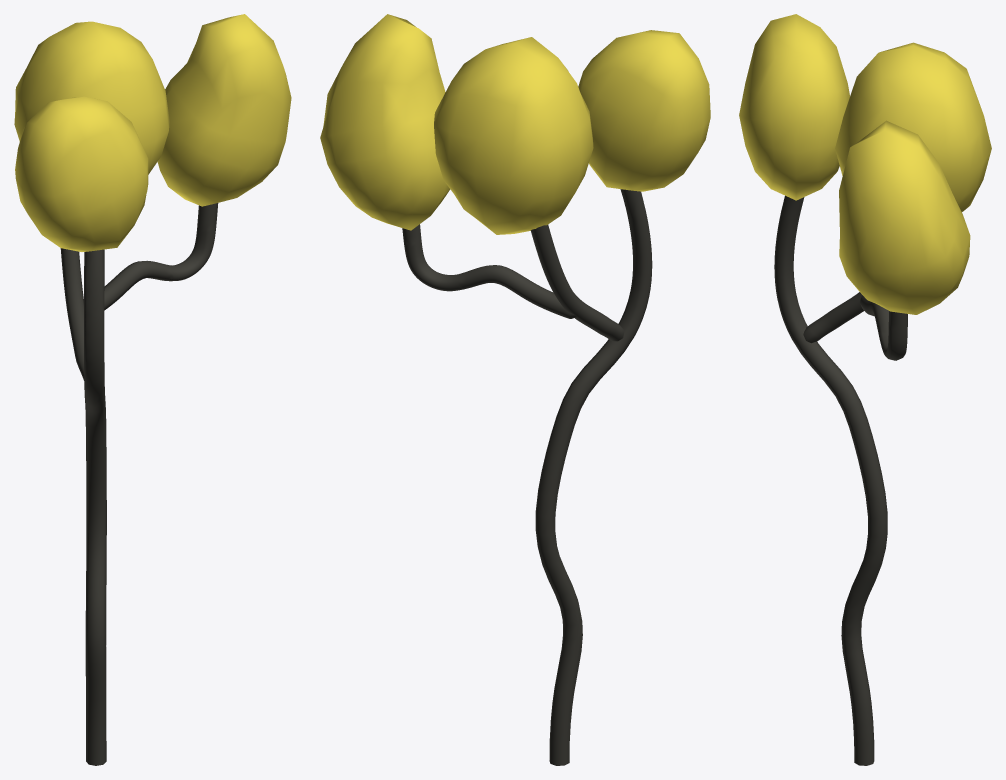
Rendered from BallonPlant.fbx.
The picture shows the model from 3 angles, left to right: view 1: azimuth 30°, elevation 25°; view 2: azimuth 150°, elevation 25°; view 3: azimuth 270°, elevation 25°; orthographic projection. The views are drawn at different scales.
Visible parts, largest first — view 1: nurbsToPoly4; view 2: nurbsToPoly4; view 3: nurbsToPoly4.
Boxes of the visible parts, bbox=[...] form: nurbsToPoly4: bbox=[14, 14, 291, 765]; nurbsToPoly4: bbox=[320, 14, 710, 765]; nurbsToPoly4: bbox=[739, 14, 991, 765].
Bounding box in the file's own units: 0.0273 × 0.0602 × 0.019.
